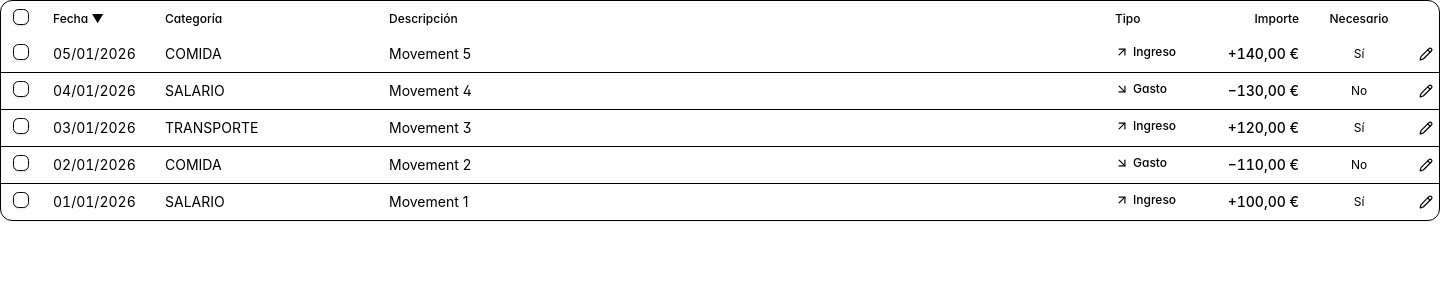
MovementsTable › multi-select › selects individual rows via checkboxes
// Click the checkbox for the first data row
Click the checkbox named "Select Movement 5" at (21, 52), box [13, 44, 29, 60]
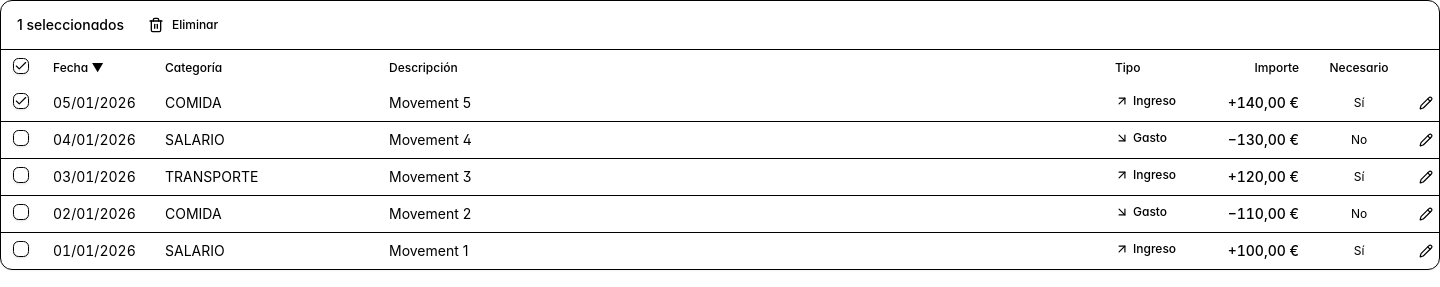
Now the text "1 seleccionados" is shown, box [17, 15, 124, 35]
